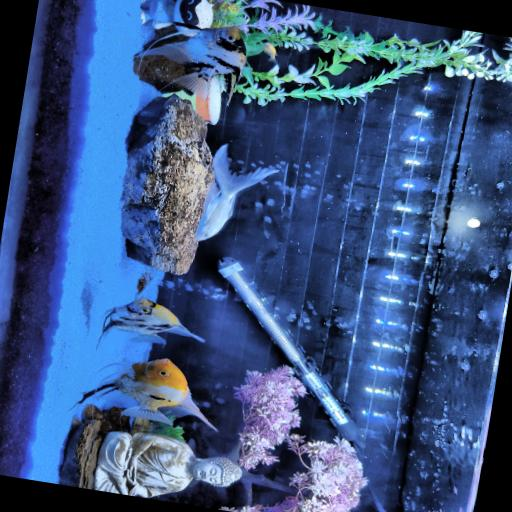Fish: (77, 359, 216, 430), (136, 23, 245, 103), (196, 145, 277, 240), (103, 298, 203, 344), (263, 42, 275, 62)
